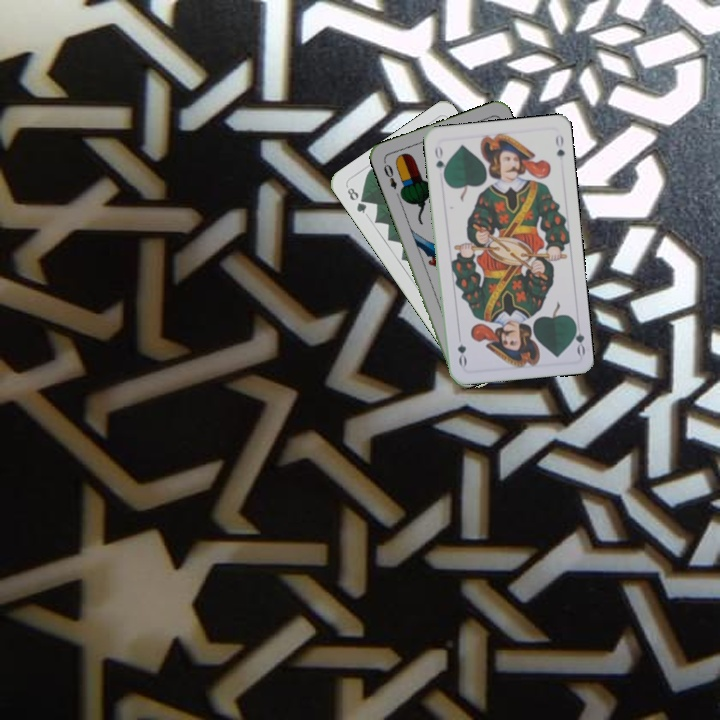EO: (379, 157, 399, 192)
G8: (343, 184, 369, 216)
GO: (567, 317, 588, 357), (431, 142, 449, 181)
